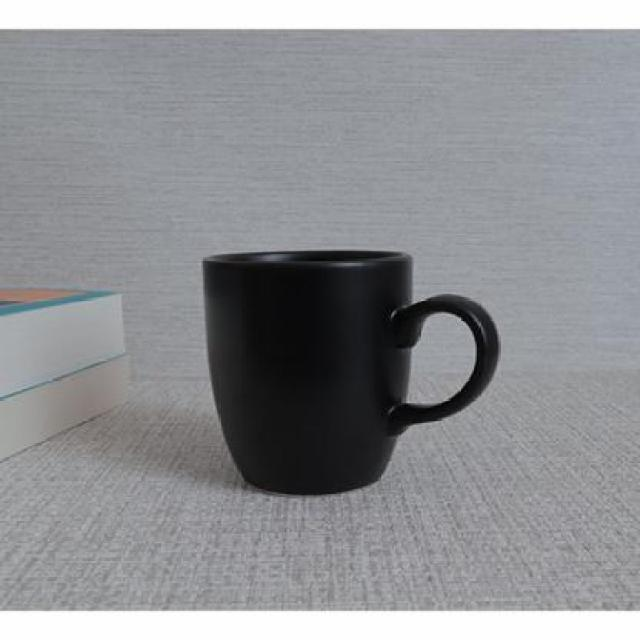taza: (198, 246, 502, 498)
